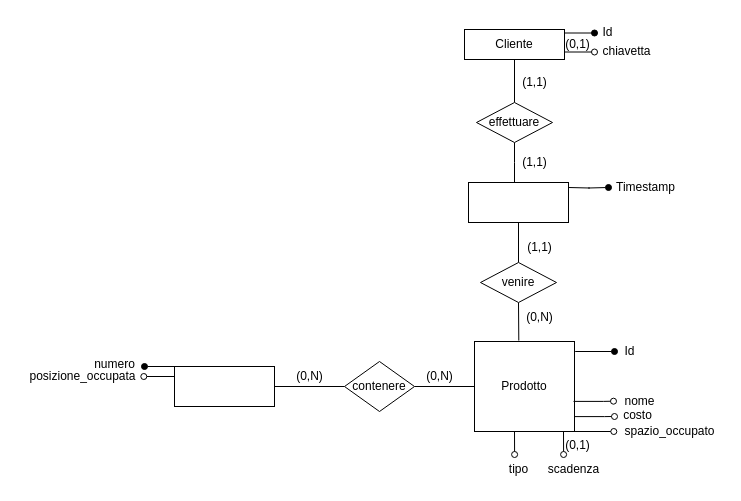
This 741x501 diagram has some shape labels left out. Each missing label, with the box of its shape:
Acquisto: (468, 182, 568, 222)
Slot: (174, 366, 274, 406)
